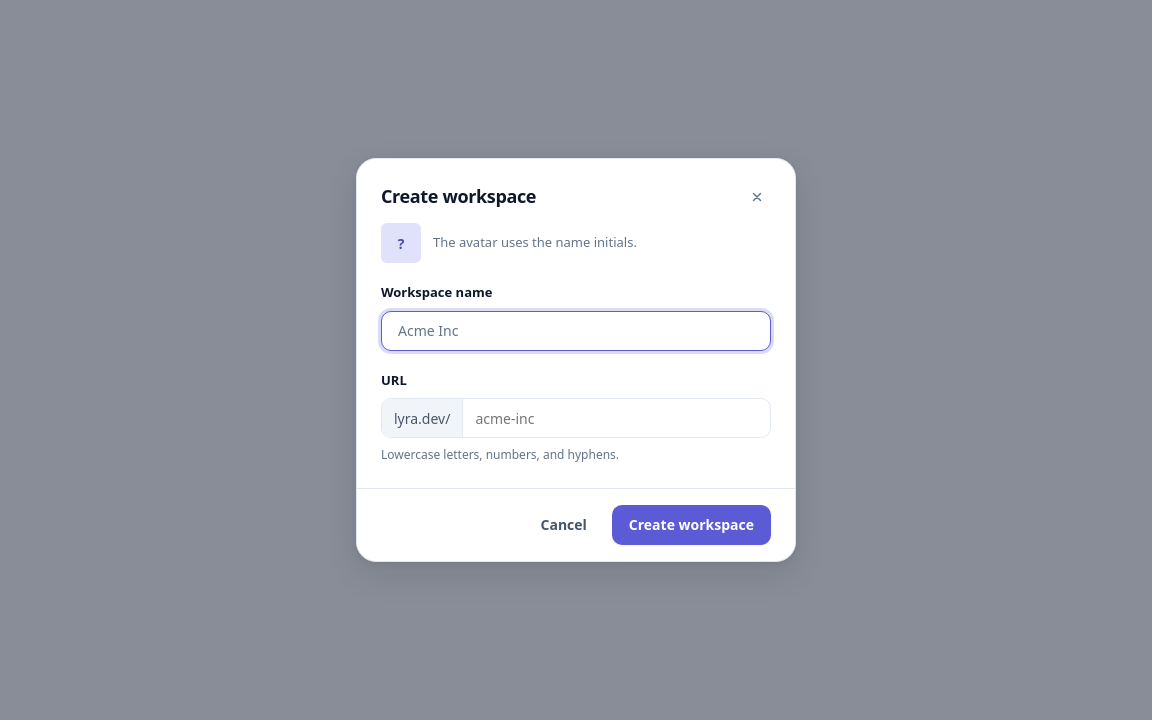
CreateWorkspaceDialog › maps a thrown creation error to a focused retryable error without closing
Type "Acme" into the field with class "lyra-input" at (576,330), box [381,310,771,350]
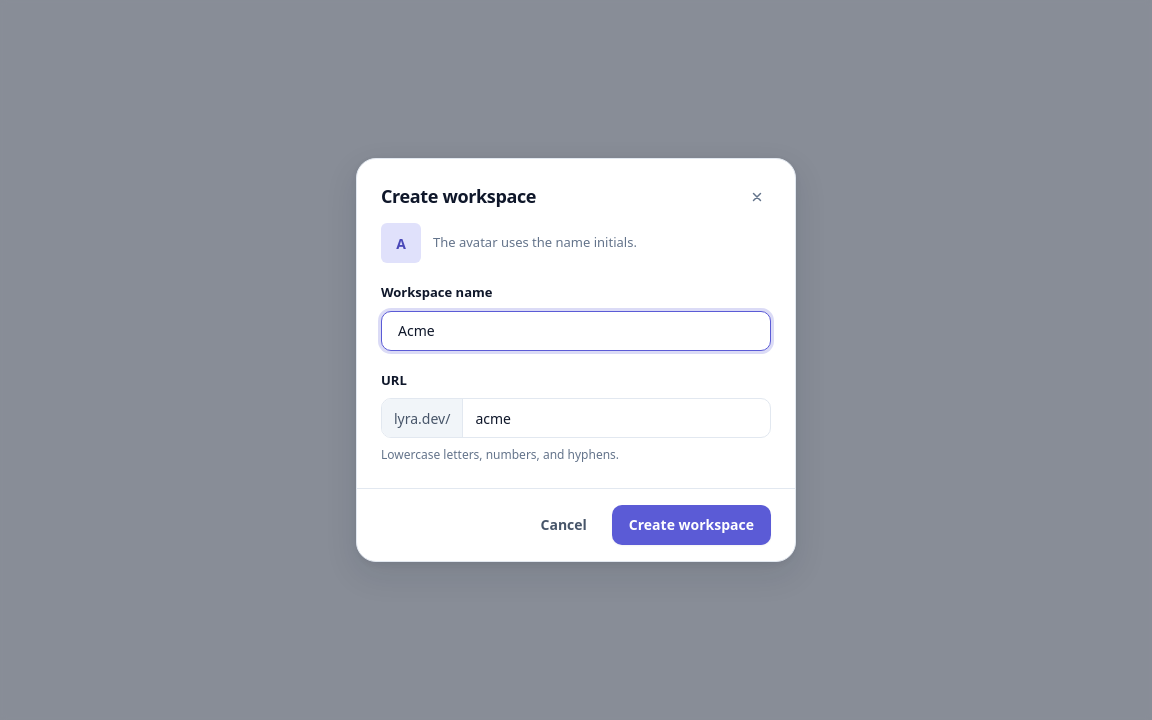
Click the button "Create workspace" at (691,525), box [612,505,771,545]
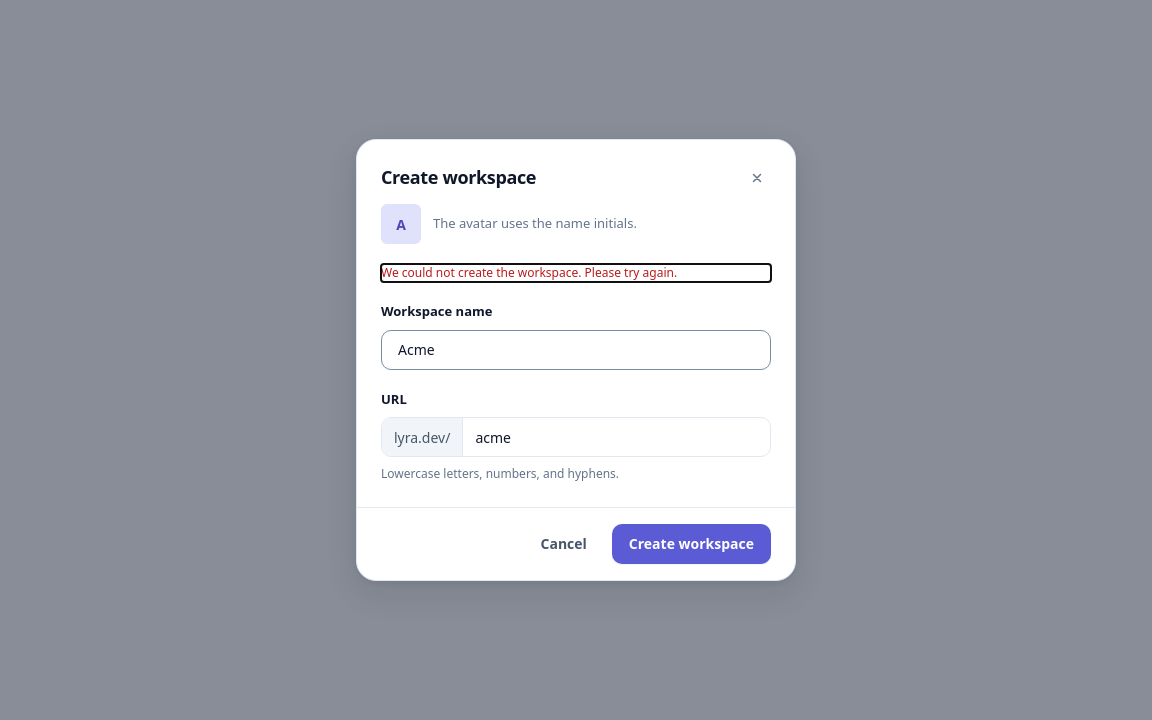
Check: the message "We could not create the workspace. Please try again." is shown, box [381,264,677,281]
